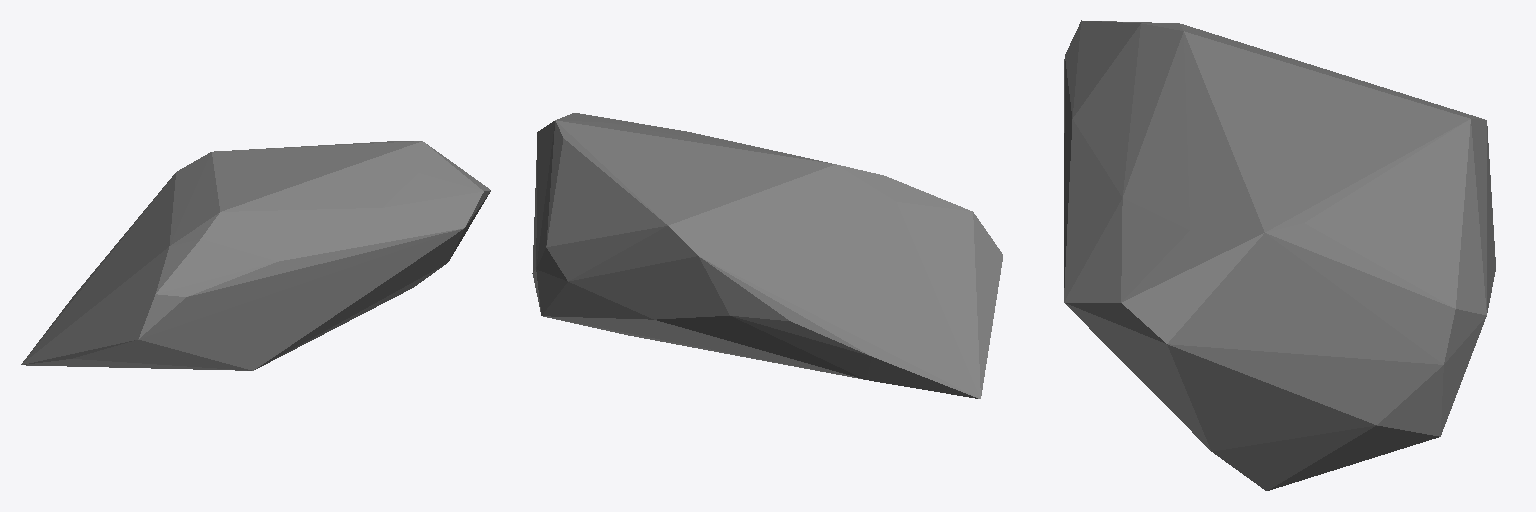
The robot description file, URDF, robot "35_583":
<?xml version="1.0"?>
<robot name="35_583">
  <link name="link">
    <contact>
      <lateral_friction value="0.6"/>
    </contact>
    <inertial>
      <mass value = "0.27915732798433673"/>
      <inertia ixx="6.948778111454903e-05" ixy="9.366419096332878e-06" ixz="1.2429035619057533e-05" iyy="0.000181507538556675" iyz="-1.7173157535621698e-06" izz="0.00020472067381944098" />
    </inertial>
    <visual name="visual">
      <geometry>
        <mesh filename="35_583.obj"/>
      </geometry>
      <material name="material">
        <color rgba="0.5346789216884626 0.5346789216884626 0.5346789216884626 1.0"/>
      </material>
    </visual>
    <collision name="collision">
      <geometry>
        <mesh filename="35_583.obj"/>
      </geometry>
    </collision>
  </link>
</robot>

--- What the picture shows (computed from the rendered views, not written in the file) ---
Views: 3 orthographic renders of the robot side by side, from view 1: azimuth 30°, elevation 25°; view 2: azimuth 150°, elevation 25°; view 3: azimuth 270°, elevation 25°.
Model 35_583 with 1 links and 0 joints (none), rooted at link, posed all joints at 0.
Visible links, largest first — view 1: link; view 2: link; view 3: link.
Boxes of the visible links, box(x1,y1,x2,y2) form: link: box(21, 141, 490, 370); link: box(532, 113, 1002, 398); link: box(1064, 20, 1495, 490).
Bounding box of the posed robot: 0.1142 × 0.054 × 0.0386 m (x, y, z).
Meshes: 1 distinct files referenced, 1 mesh visuals loaded (1 OBJ).
